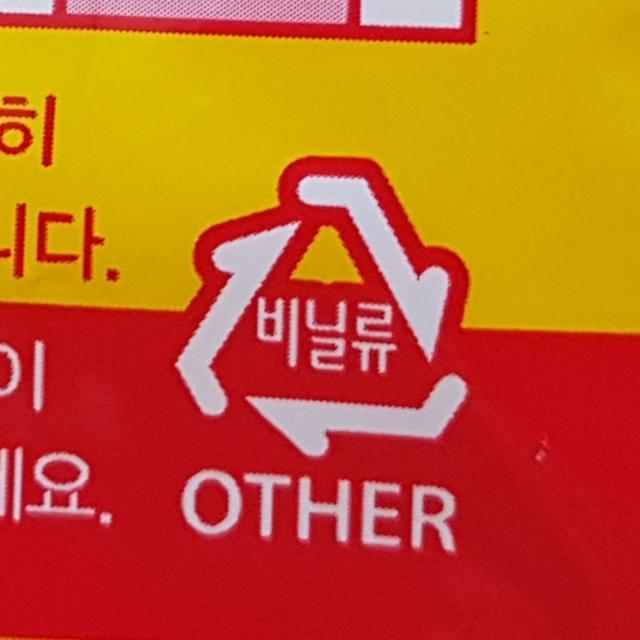Vinyl: (152, 140, 487, 463)
